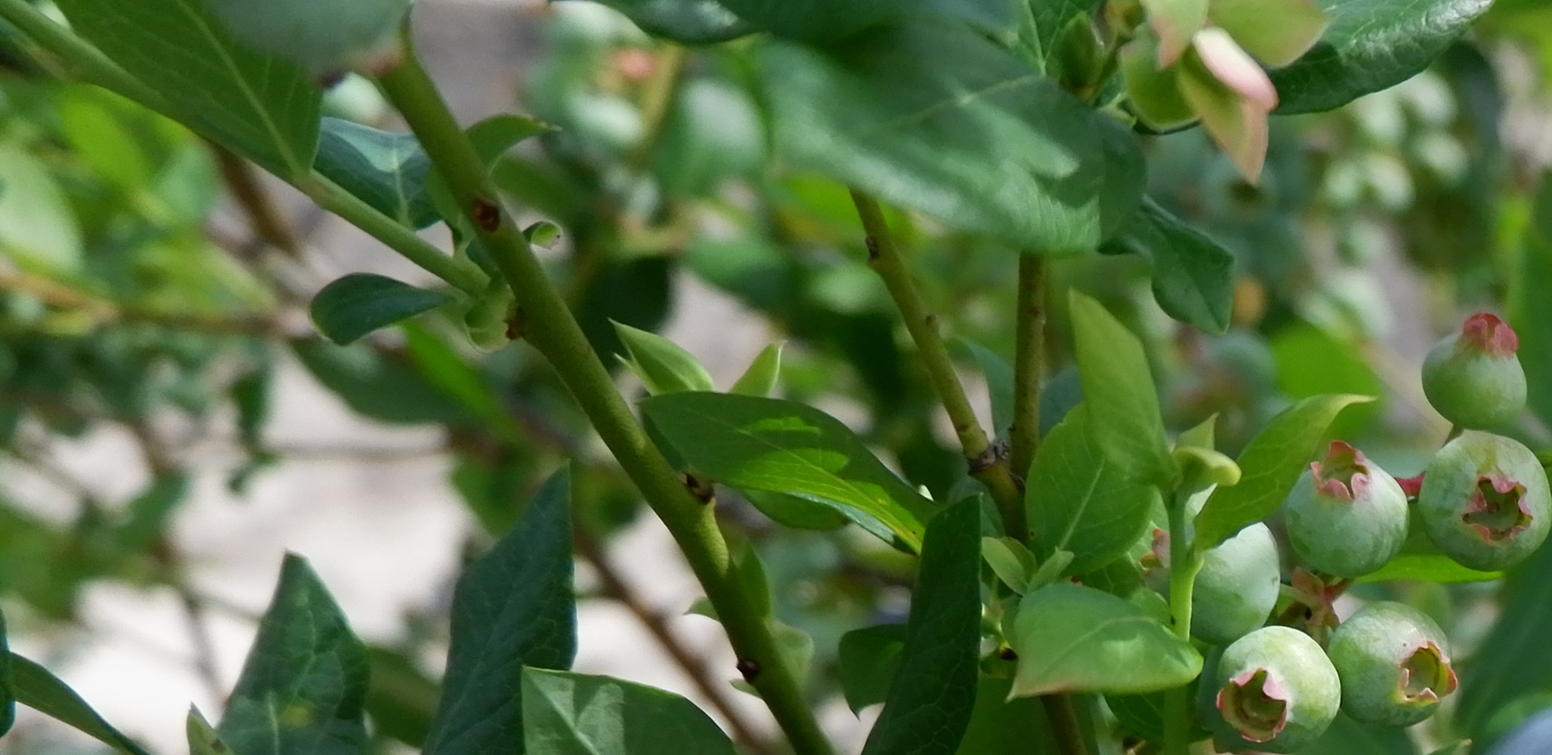Immature: (1423, 435, 1550, 567), (1290, 447, 1406, 573), (1216, 628, 1336, 743), (1339, 605, 1450, 727), (1424, 309, 1529, 431), (1191, 523, 1278, 639)
